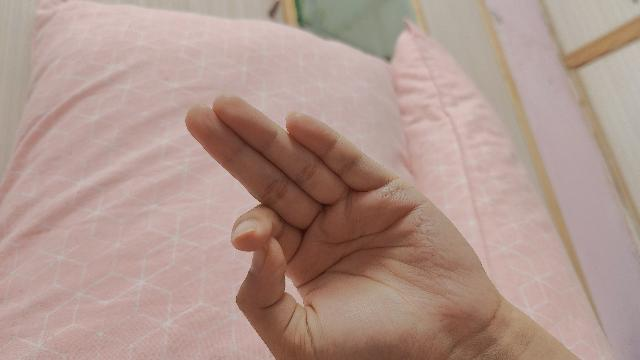aral: (184, 96, 580, 360)
